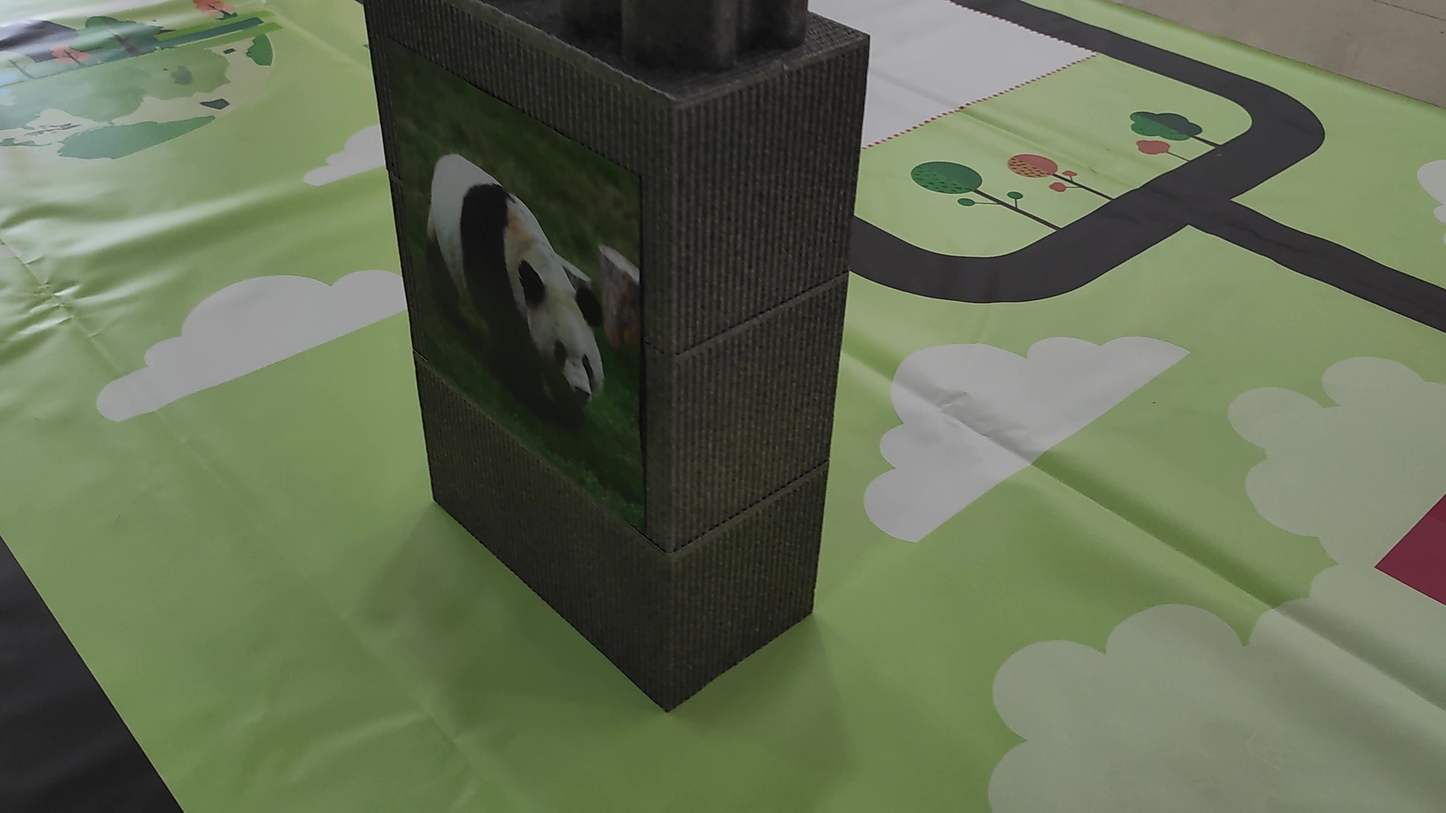panda: (412, 130, 626, 450)
